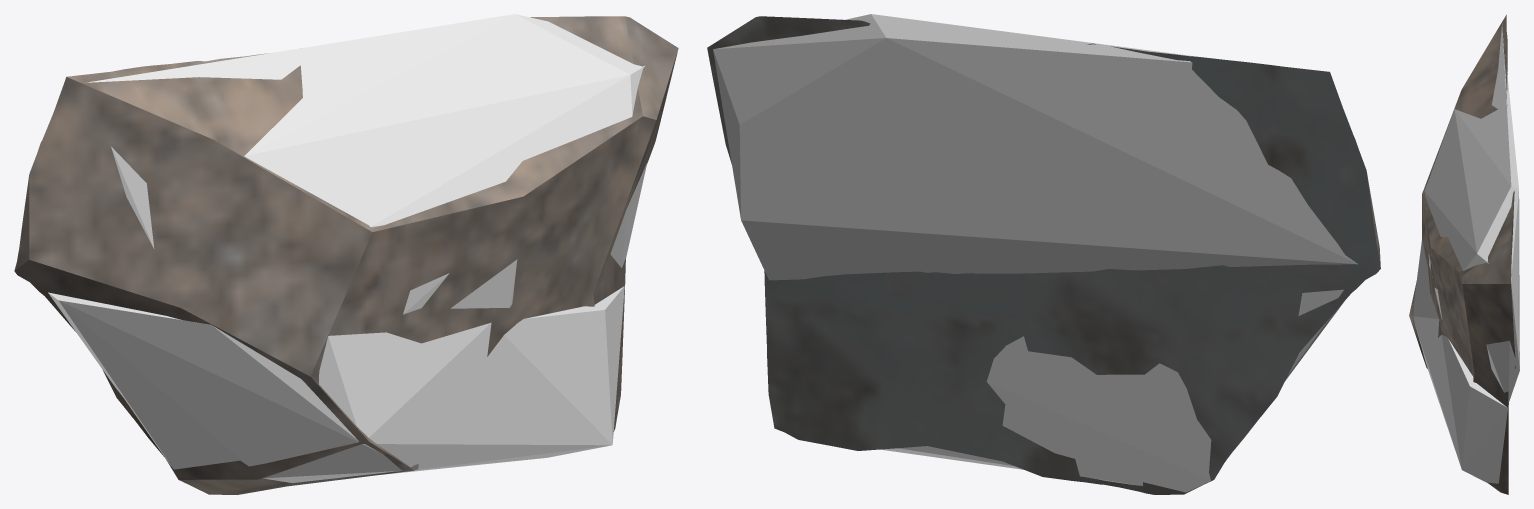
Rendered from SM_Rock_38.fbx.
The picture shows the model from 3 angles, left to right: view 1: azimuth 30°, elevation 25°; view 2: azimuth 150°, elevation 25°; view 3: azimuth 270°, elevation 25°; orthographic projection. The views are drawn at different scales.
Parts seen in each view (by area): view 1: SM_Rock_38_ConvexHulls, SM_Rock_38_LOD0; view 2: SM_Rock_38_ConvexHulls, SM_Rock_38_LOD0; view 3: SM_Rock_38_ConvexHulls, SM_Rock_38_LOD0.
Part boxes in pixels (x1,y1,x2,y2): SM_Rock_38_ConvexHulls: (48, 14, 647, 482); SM_Rock_38_LOD0: (14, 16, 678, 494); SM_Rock_38_ConvexHulls: (713, 14, 1357, 492); SM_Rock_38_LOD0: (707, 16, 1380, 494); SM_Rock_38_ConvexHulls: (1413, 23, 1519, 483); SM_Rock_38_LOD0: (1409, 14, 1515, 494).
Size of the model in its own units: 46.99 by 10.63 by 33.19.
